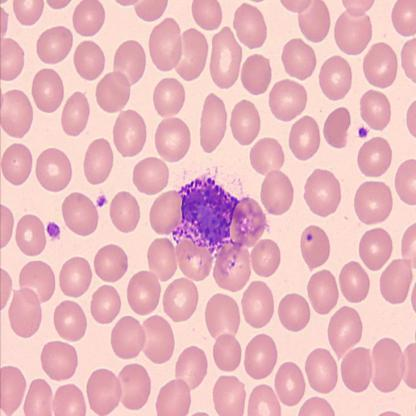Basophil: (170, 172, 241, 254)
